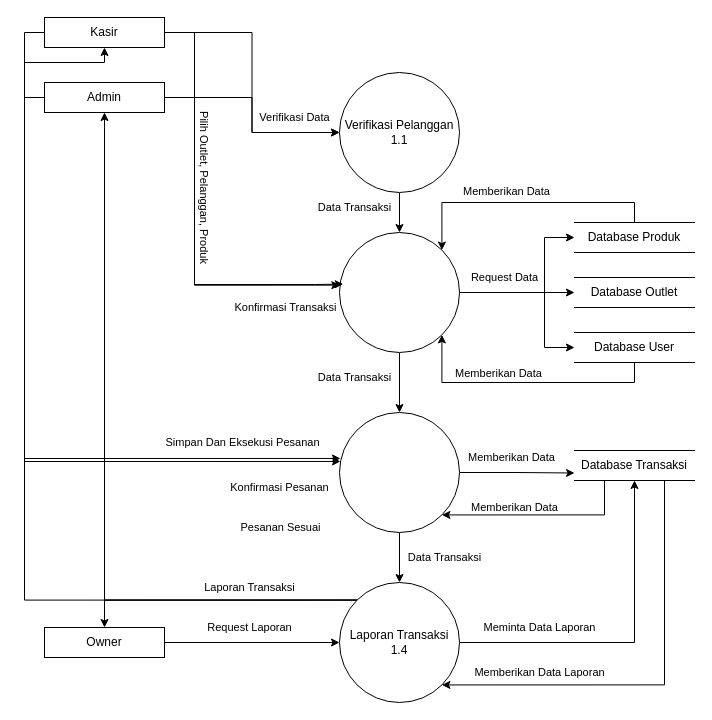
The diagram is 712 pixels wide and 720 high, and some of its shapes have lost their labels. Here are the shapes that lost their labels. From the top down, the box of each, then its label:
(338, 232, 460, 352): Entri Transaksi 1.2
(338, 412, 460, 532): Konfirmasi Transaksi 1.3
